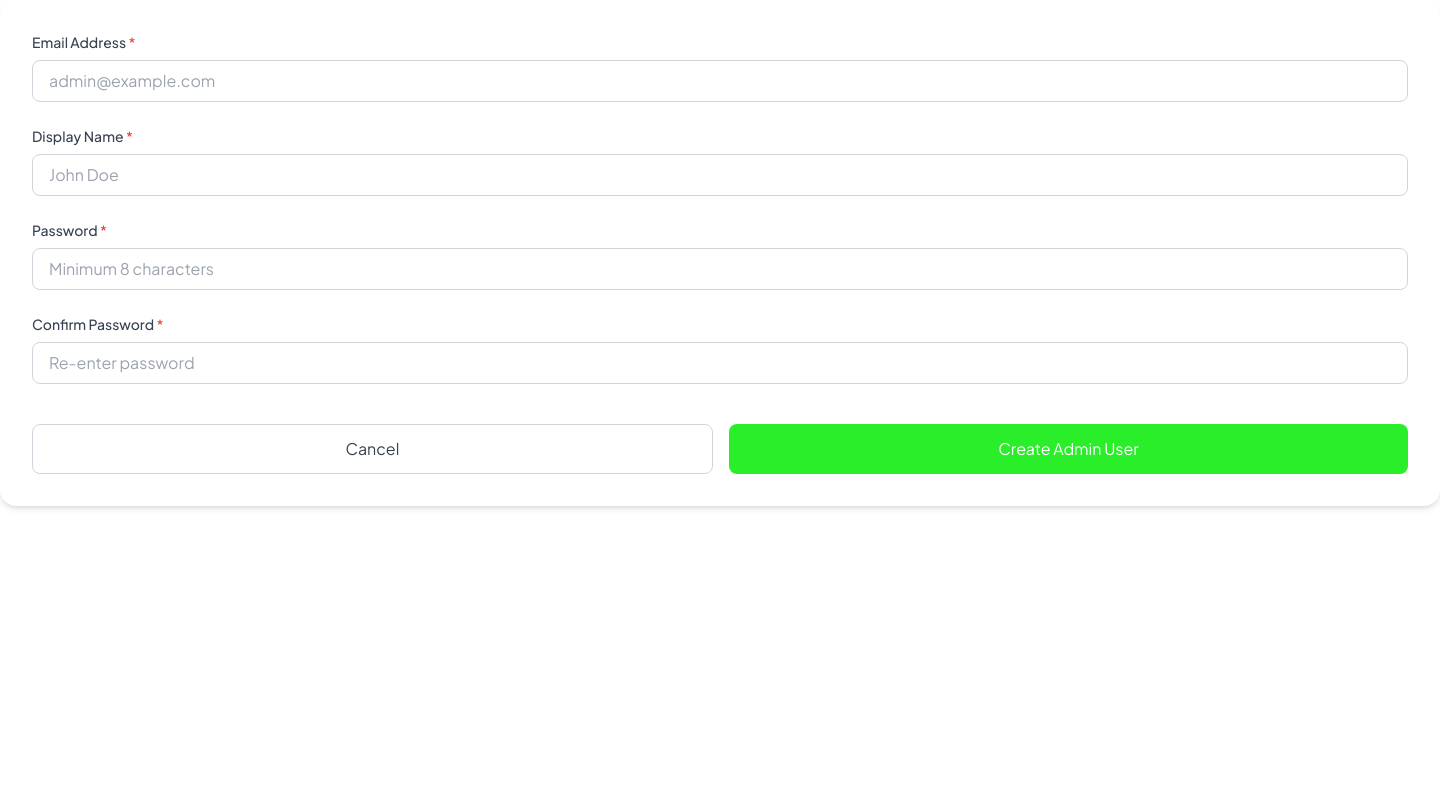
it: UserForm › UserForm_Should_ValidateEmail_When_Submitted › should clear email error when user starts typing
The width and height of the screenshot is (1440, 810).
Click the button "Create Admin User" at (1068, 449), box [729,424,1408,474]
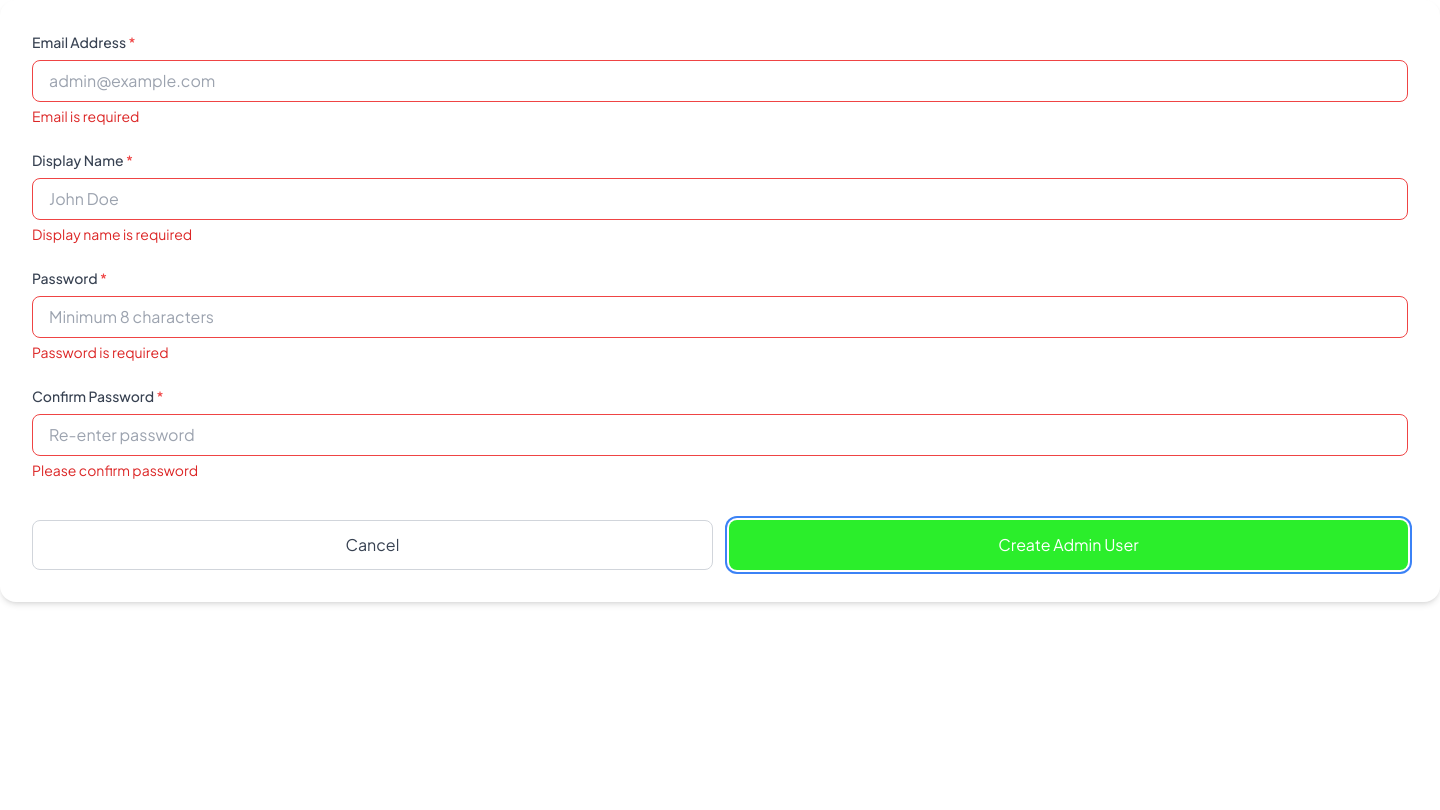
expect the text "Email is required" is shown: met, box [32,107,139,125]
Type "test@example.com" into the field labelled "Email Address *" at (720, 81), box [32,60,1408,102]
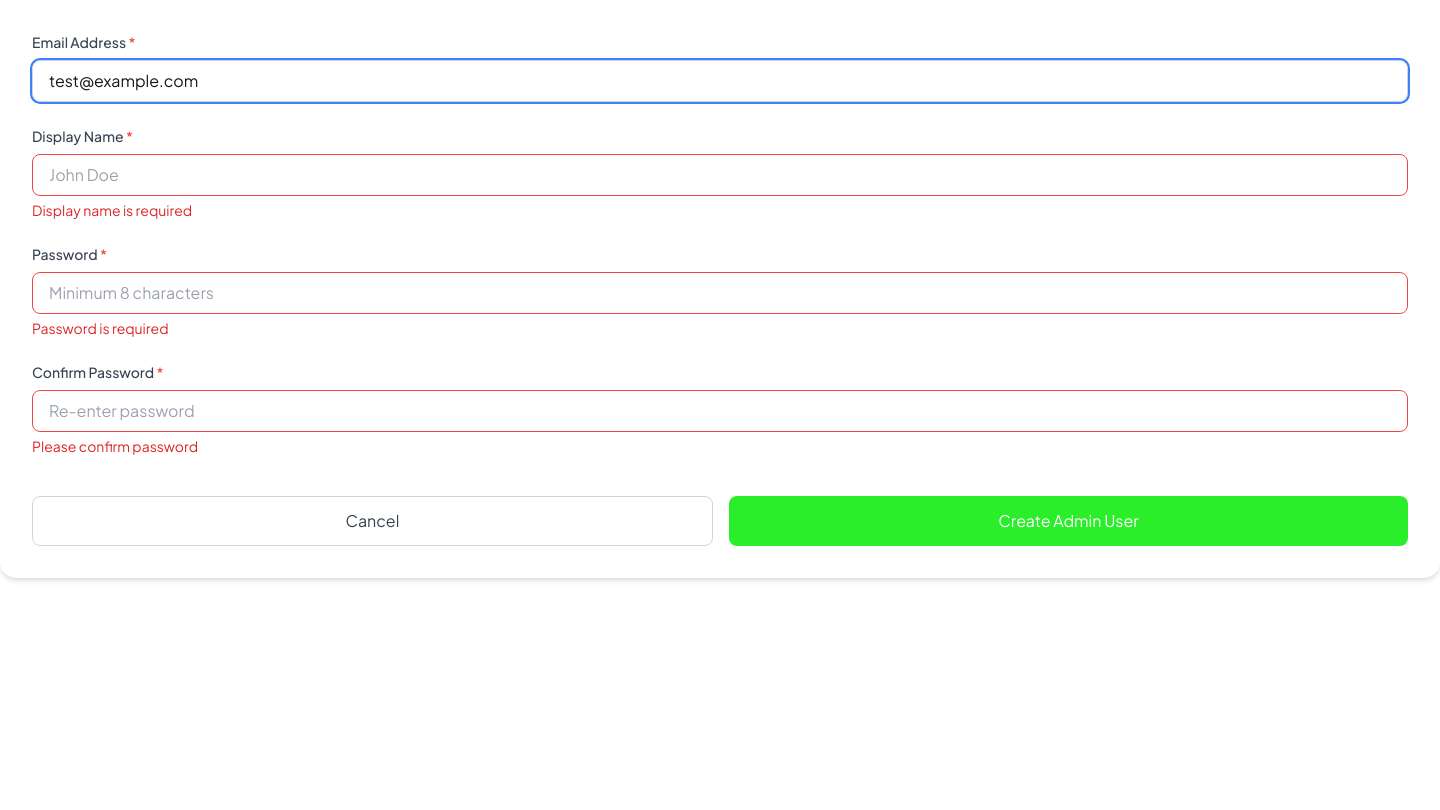
expect the text "Email is required" is gone: met
